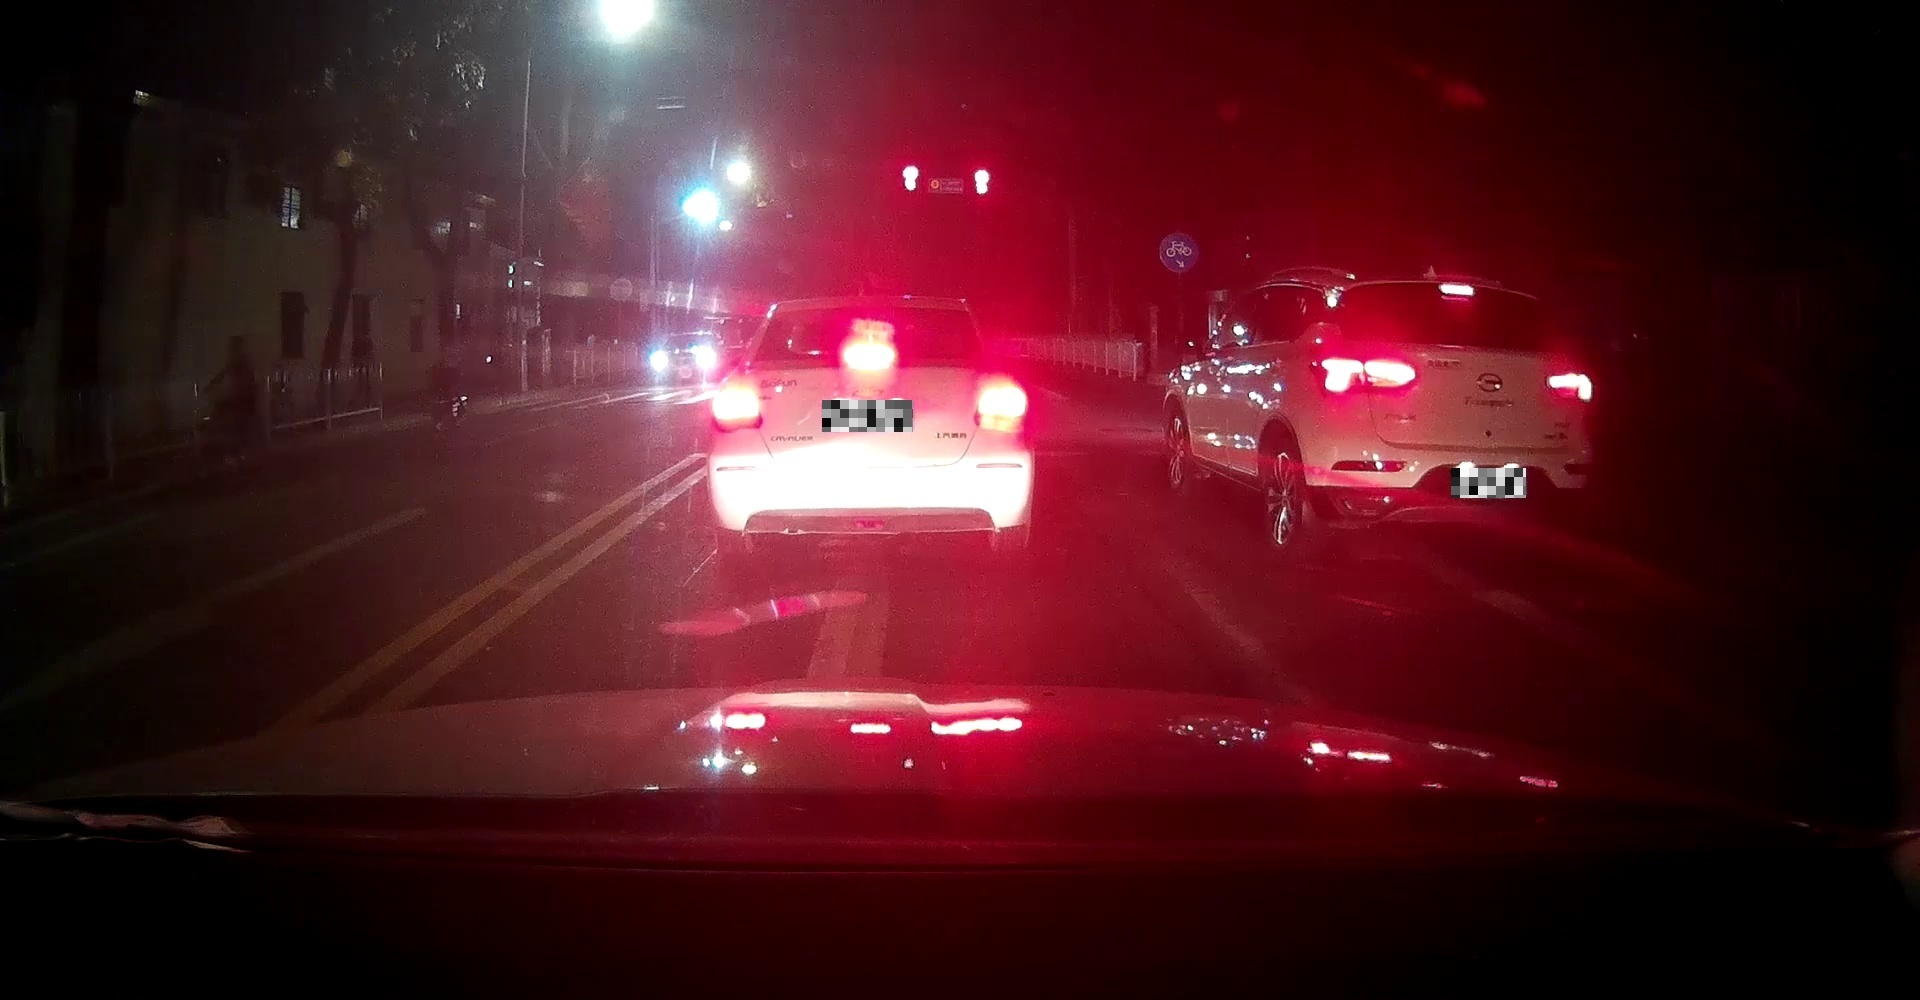L_light: (1310, 354, 1418, 393), (710, 387, 764, 431)
R_light: (973, 379, 1027, 430), (1544, 371, 1594, 402)
T_light: (842, 341, 897, 365), (1437, 282, 1476, 297)
night-brake: (706, 294, 1031, 555), (1310, 272, 1596, 551)
plate_1: (822, 400, 913, 431)
plate_2: (1451, 468, 1526, 497)
